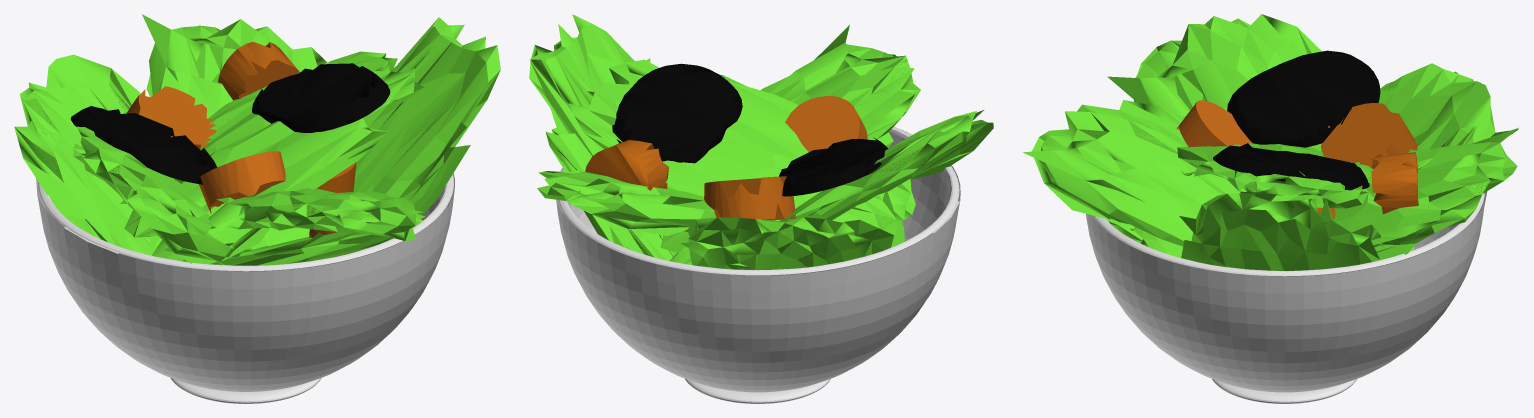
Rendered from salad.fbx.
3 renders of one model, left to right at view 1: azimuth 30°, elevation 25°; view 2: azimuth 150°, elevation 25°; view 3: azimuth 270°, elevation 25°, orthographic. The views are drawn at different scales.
Parts seen in each view (by area): view 1: Torus.001, Torus.002, Torus.004, Torus.000, Torus.008, Torus.007, Torus.005, Sphere.009, Sphere.000, Torus.003, Cone.006, Cone.005 (+2 smaller); view 2: Torus.001, Torus.004, Torus.002, Torus.000, Sphere.009, Torus.005, Torus.007, Torus.008, Sphere.000, Cone.007, Cone.006, Cone.005; view 3: Torus.001, Torus.005, Torus.002, Torus.007, Sphere.000, Torus.008, Torus.000, Torus.004, Cone.007, Sphere.009, Cone.005, Cone.006 (+1 smaller).
Part boxes in pixels (<box>): Torus.001: <box>36,173,454,403</box>; Torus.002: <box>353,17,500,215</box>; Torus.004: <box>119,51,424,263</box>; Torus.000: <box>14,54,151,255</box>; Torus.008: <box>142,14,326,249</box>; Torus.007: <box>73,126,254,265</box>; Torus.005: <box>216,188,422,240</box>; Sphere.009: <box>252,63,390,132</box>; Sphere.000: <box>70,106,217,184</box>; Torus.003: <box>210,213,425,265</box>; Cone.006: <box>199,151,285,213</box>; Cone.005: <box>218,41,299,100</box>; Torus.001: <box>556,127,960,403</box>; Torus.004: <box>569,59,915,229</box>; Torus.002: <box>529,14,676,260</box>; Torus.000: <box>681,213,894,269</box>; Sphere.009: <box>612,63,742,163</box>; Torus.005: <box>660,25,920,264</box>; Torus.007: <box>779,110,993,221</box>; Torus.008: <box>537,171,715,235</box>; Sphere.000: <box>779,137,888,196</box>; Cone.007: <box>704,176,795,220</box>; Cone.006: <box>785,96,867,151</box>; Cone.005: <box>585,140,668,190</box>; Torus.001: <box>1086,191,1487,403</box>; Torus.005: <box>1023,100,1245,257</box>; Torus.002: <box>1179,193,1383,270</box>; Torus.007: <box>1107,14,1414,250</box>; Sphere.000: <box>1227,50,1380,147</box>; Torus.008: <box>1333,128,1518,260</box>; Torus.000: <box>1378,63,1518,151</box>; Torus.004: <box>1177,143,1381,208</box>; Cone.007: <box>1321,103,1417,168</box>; Sphere.009: <box>1213,143,1369,190</box>; Cone.005: <box>1371,152,1418,213</box>; Cone.006: <box>1176,100,1251,147</box>.
Bounding box in the file's own units: 226 × 156 × 246.
